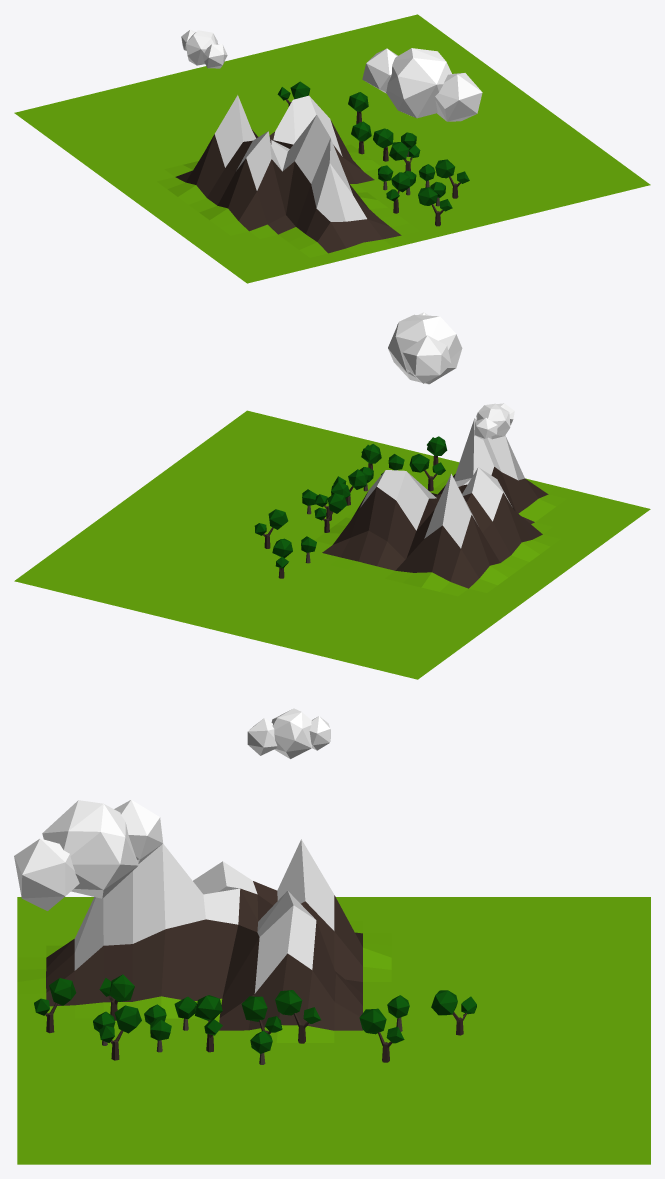
Rendered from lowpoly hills.fbx.
3 views of the same model, one above another, from view 1: azimuth 30°, elevation 25°; view 2: azimuth 150°, elevation 25°; view 3: azimuth 270°, elevation 25° (orthographic). The views are drawn at different scales.
Visible parts, largest first — view 1: Plane, Icosphere.009, Icosphere.007, Icosphere.006, Icosphere.002, Icosphere.003, Icosphere.001, Icosphere.004; view 2: Plane, Icosphere.009, Icosphere.007, Icosphere, Icosphere.003, Icosphere.005; view 3: Plane, Icosphere.009, Icosphere.007, Icosphere.005, Icosphere, Icosphere.002, Icosphere.006, Icosphere.008, Icosphere.001, Icosphere.004, Icosphere.003.
Boxes of the visible parts, x1,y1,x2,y2 form: Plane: [14, 14, 650, 283]; Icosphere.009: [362, 48, 482, 121]; Icosphere.007: [181, 29, 227, 68]; Icosphere.006: [435, 159, 469, 198]; Icosphere.002: [418, 187, 452, 226]; Icosphere.003: [386, 172, 410, 213]; Icosphere.001: [389, 142, 420, 171]; Icosphere.004: [373, 128, 393, 161]; Plane: [14, 410, 650, 679]; Icosphere.009: [388, 312, 462, 384]; Icosphere.007: [474, 403, 514, 439]; Icosphere: [254, 509, 288, 548]; Icosphere.003: [409, 454, 445, 491]; Icosphere.005: [314, 493, 347, 532]; Plane: [17, 839, 650, 1164]; Icosphere.009: [14, 799, 162, 910]; Icosphere.007: [247, 708, 330, 758]; Icosphere.005: [275, 990, 320, 1043]; Icosphere: [359, 1008, 404, 1062]; Icosphere.002: [34, 978, 76, 1033]; Icosphere.006: [99, 1005, 141, 1060]; Icosphere.008: [431, 990, 476, 1035]; Icosphere.001: [195, 995, 222, 1052]; Icosphere.004: [241, 996, 282, 1034]; Icosphere.003: [99, 974, 134, 1020].
Bounding box in the file's own units: 874 × 349 × 878.
